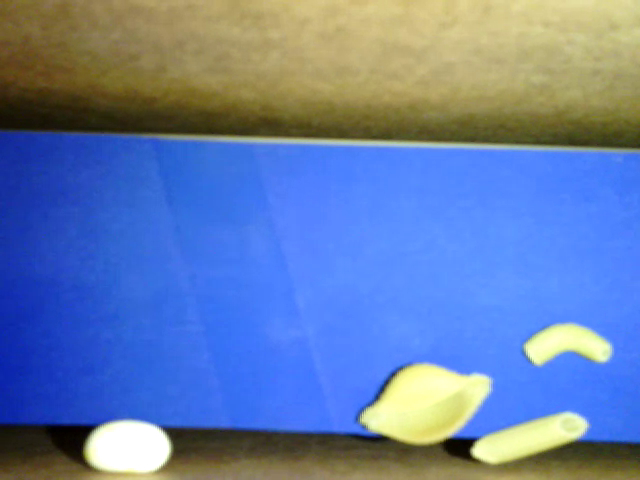elbow: (522, 322, 613, 366)
penne: (470, 411, 589, 465)
shell: (357, 362, 493, 447)
